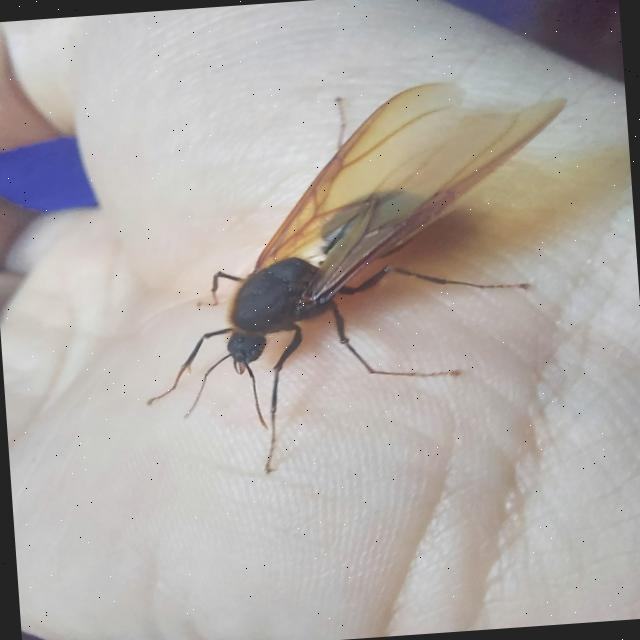Alive-Male-Alate: (125, 72, 591, 482)
